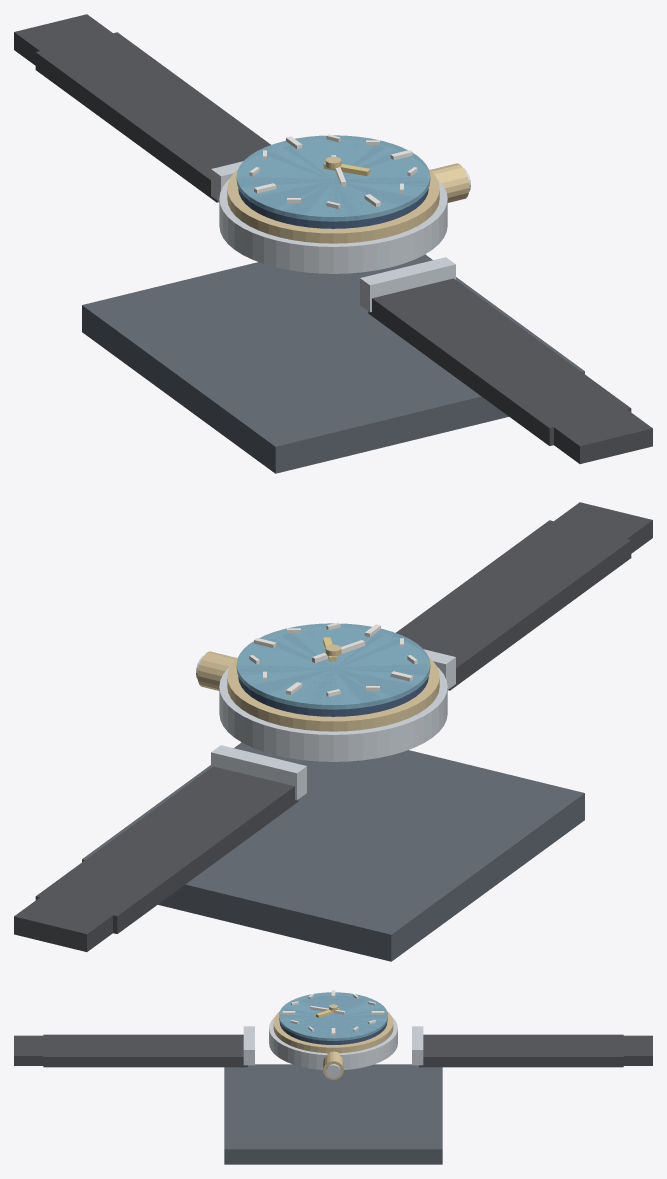
Rendered from meridian_luxury_watch.glb.
3 renders of one model, top to bottom at view 1: azimuth 30°, elevation 25°; view 2: azimuth 150°, elevation 25°; view 3: azimuth 270°, elevation 25°, orthographic. The views are drawn at different scales.
Visible parts, largest first — view 1: Display_Plinth, Sapphire_Crystal, Case_Outer, Lower_Strap_End, Lower_Strap_Link_2, Upper_Strap_Link_2, Lower_Strap_Link_3, Upper_Strap_Link_3, Upper_Strap_Link_4, Lower_Strap_Link_1, Upper_Strap_End, Gold_Bezel (+5 smaller); view 2: Display_Plinth, Sapphire_Crystal, Case_Outer, Upper_Strap_End, Upper_Strap_Link_2, Lower_Strap_Link_2, Lower_Strap_Link_3, Upper_Strap_Link_3, Lower_Strap_Link_4, Upper_Strap_Link_1, Gold_Bezel, Lower_Strap_End (+5 smaller); view 3: Display_Plinth, Sapphire_Crystal, Case_Outer, Lower_Strap_Link_2, Upper_Strap_Link_2, Lower_Strap_Link_3, Upper_Strap_Link_3, Upper_Strap_Link_1, Lower_Strap_Link_1, Lower_Strap_Link_4, Upper_Strap_Link_4, Upper_Strap_End (+6 smaller).
Part boxes in pixels (<box>): Display_Plinth: <box>82,254,584,473</box>; Sapphire_Crystal: <box>236,135,430,221</box>; Case_Outer: <box>219,179,447,273</box>; Lower_Strap_End: <box>525,388,652,463</box>; Lower_Strap_Link_2: <box>413,308,541,380</box>; Upper_Strap_Link_2: <box>125,97,253,167</box>; Lower_Strap_Link_3: <box>458,343,585,413</box>; Upper_Strap_Link_3: <box>80,65,206,136</box>; Upper_Strap_Link_4: <box>35,32,162,104</box>; Lower_Strap_Link_1: <box>368,278,494,345</box>; Upper_Strap_End: <box>14,14,141,71</box>; Gold_Bezel: <box>227,169,439,243</box>; Display_Plinth: <box>82,742,584,961</box>; Sapphire_Crystal: <box>236,623,430,709</box>; Case_Outer: <box>219,667,447,761</box>; Upper_Strap_End: <box>14,876,141,951</box>; Upper_Strap_Link_2: <box>125,796,253,868</box>; Lower_Strap_Link_2: <box>413,586,541,655</box>; Lower_Strap_Link_3: <box>460,553,586,624</box>; Upper_Strap_Link_3: <box>81,831,209,901</box>; Lower_Strap_Link_4: <box>505,520,631,590</box>; Upper_Strap_Link_1: <box>172,766,298,835</box>; Gold_Bezel: <box>227,657,439,731</box>; Lower_Strap_End: <box>526,502,652,559</box>; Display_Plinth: <box>224,1064,442,1164</box>; Sapphire_Crystal: <box>279,992,387,1040</box>; Case_Outer: <box>269,1017,397,1069</box>; Lower_Strap_Link_2: <box>144,1034,197,1067</box>; Upper_Strap_Link_2: <box>469,1034,522,1067</box>; Lower_Strap_Link_3: <box>94,1034,146,1067</box>; Upper_Strap_Link_3: <box>520,1034,572,1067</box>; Upper_Strap_Link_1: <box>419,1034,472,1067</box>; Lower_Strap_Link_1: <box>194,1034,247,1067</box>; Lower_Strap_Link_4: <box>43,1034,96,1067</box>; Upper_Strap_Link_4: <box>570,1034,623,1067</box>; Upper_Strap_End: <box>591,1035,652,1065</box>.
Size of the model in its own units: 0.072 by 0.0456 by 0.228.
